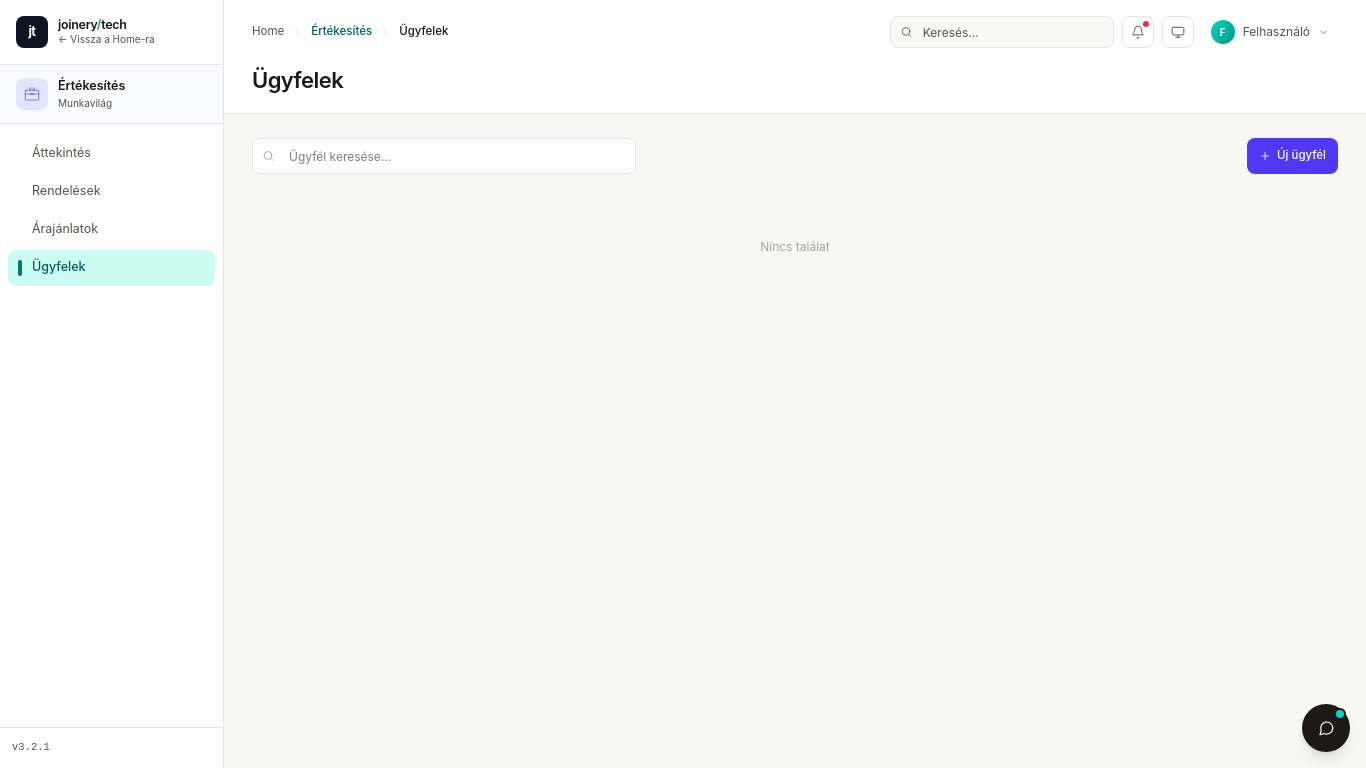
SalesPage › SalesCustomers: Új ügyfél opens CreateCustomerSlideOver
This screenshot has width=1366, height=768.
Click the button "Új ügyfél": {"x": 1292, "y": 156} [1247,138,1338,174]
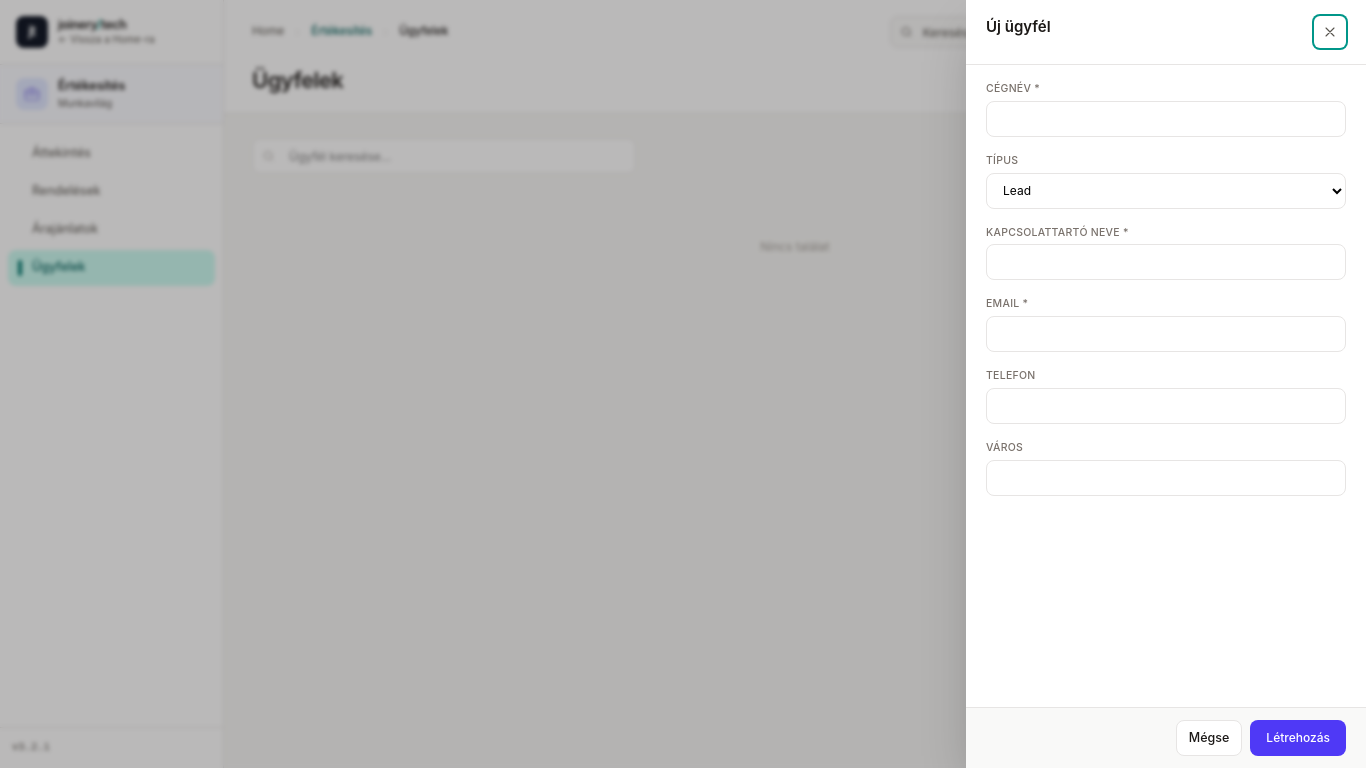
Now the button "Létrehozás" is shown, box [1250,720,1346,756]
